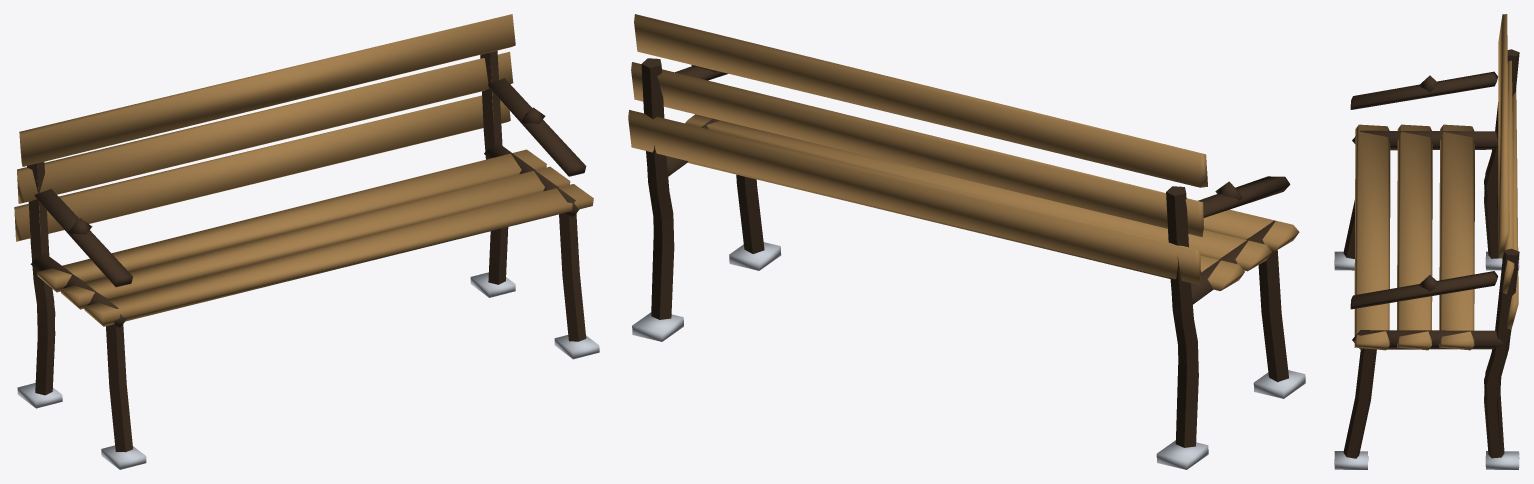
File: lod_bench_simple.glb
The picture shows the model from 3 angles, left to right: view 1: azimuth 30°, elevation 25°; view 2: azimuth 150°, elevation 25°; view 3: azimuth 270°, elevation 25°; orthographic projection. The views are drawn at different scales.
Visible parts, largest first — view 1: bench_simple; view 2: bench_simple; view 3: bench_simple.
Part boxes in pixels (bbox=[...]): bench_simple: bbox=[14, 14, 599, 469]; bench_simple: bbox=[628, 14, 1305, 469]; bench_simple: bbox=[1334, 14, 1519, 469].
Size of the model in its own units: 1.7 by 0.8864 by 0.6127.
